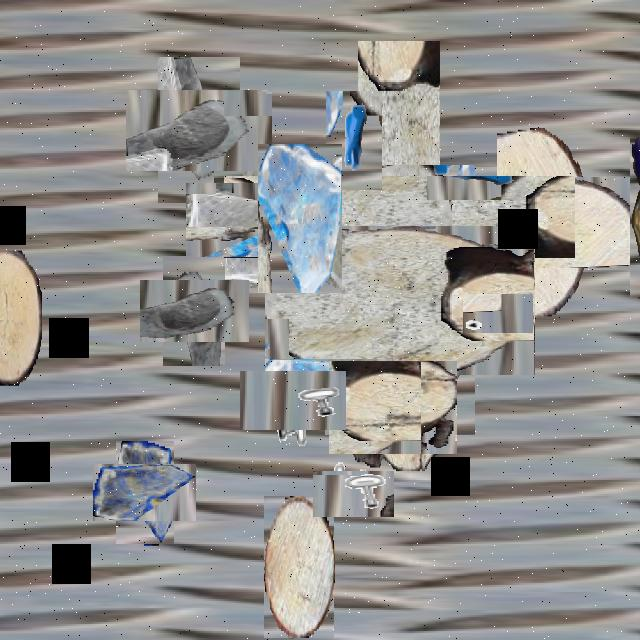glass: (142, 73, 256, 187), (258, 144, 342, 293), (200, 169, 302, 272), (151, 268, 237, 354), (105, 452, 185, 533)
metal: (252, 358, 334, 442), (326, 91, 382, 190), (321, 462, 385, 526), (470, 285, 526, 341)
plastic: (290, 108, 508, 326), (630, 137, 640, 297)
wood: (295, 196, 505, 406), (473, 152, 613, 292), (338, 352, 448, 462), (264, 496, 334, 638), (0, 250, 41, 386)
